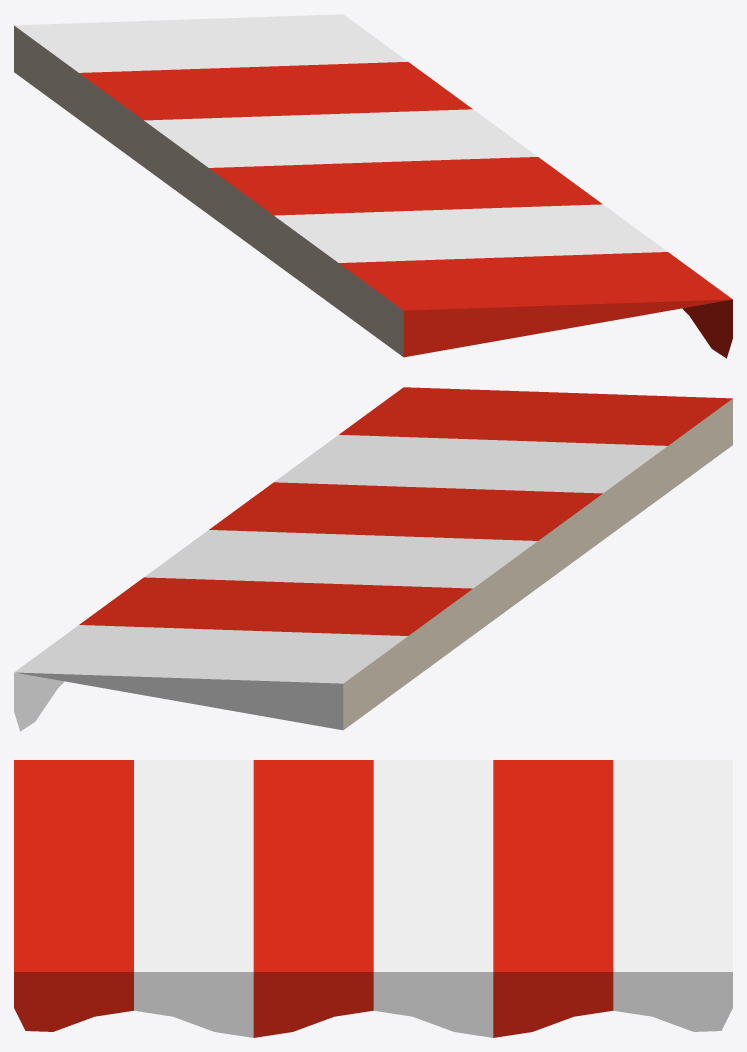
The model's file is cover.fbx.
3 renders of one model, top to bottom at view 1: azimuth 30°, elevation 25°; view 2: azimuth 150°, elevation 25°; view 3: azimuth 270°, elevation 25°, orthographic. The views are drawn at different scales.
Parts seen in each view (by area): view 1: Cube.021; view 2: Cube.021; view 3: Cube.021.
Part boxes in pixels (bbox=[...]): Cube.021: bbox=[14, 14, 732, 358]; Cube.021: bbox=[14, 387, 732, 731]; Cube.021: bbox=[14, 760, 732, 1037].
Bounding box in the file's own units: 205 × 83.82 × 421.
